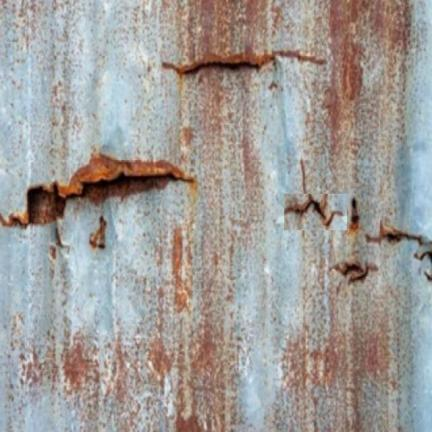karat: (0, 154, 193, 233)
